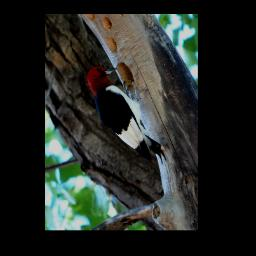Woodpecker: (88, 65, 170, 165)
